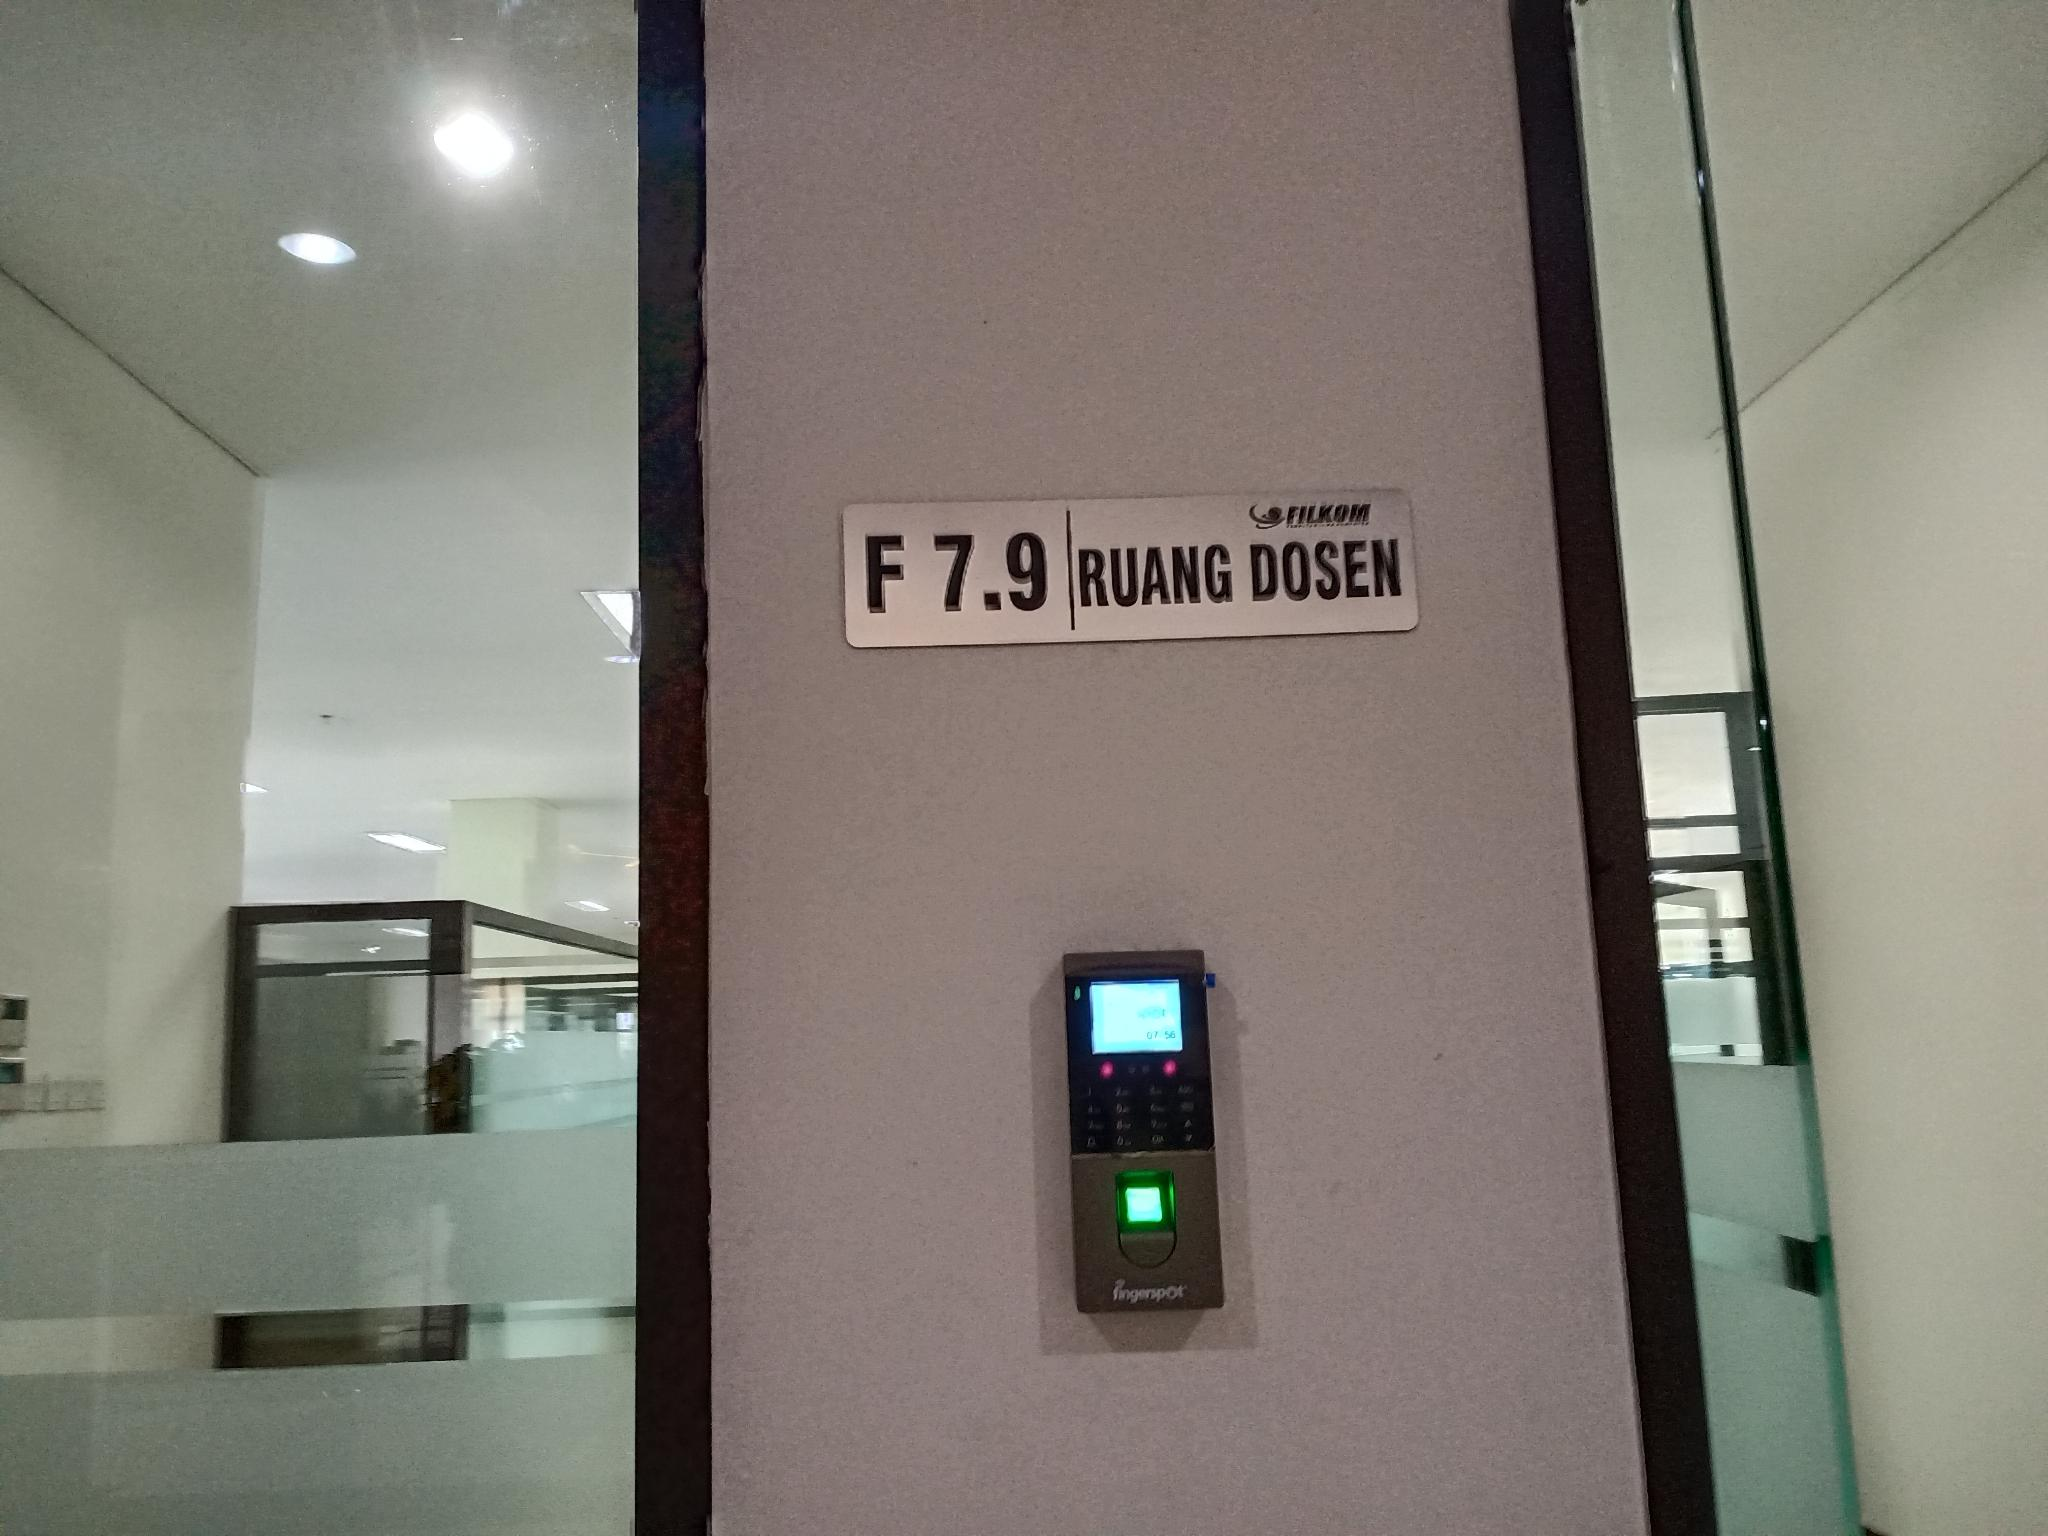plate: (839, 487, 1426, 649)
